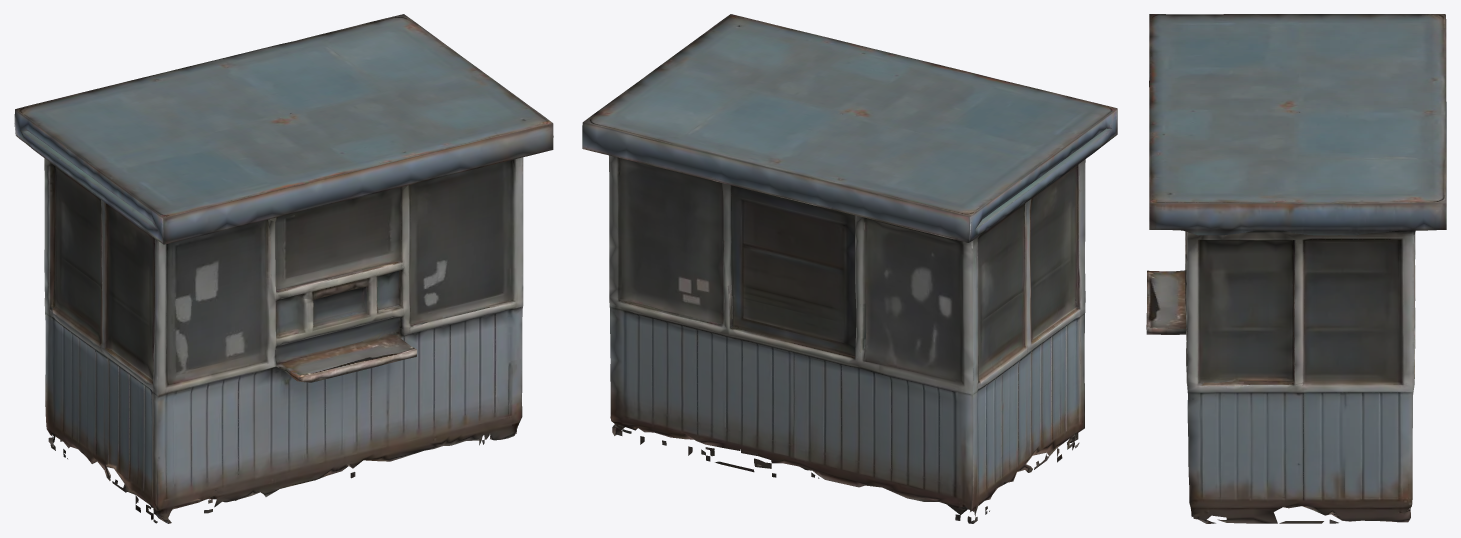
The model's file is kiosk.glb.
The picture shows the model from 3 angles, left to right: view 1: azimuth 30°, elevation 25°; view 2: azimuth 150°, elevation 25°; view 3: azimuth 270°, elevation 25°; orthographic projection.
Visible parts, largest first — view 1: Object_4; view 2: Object_4; view 3: Object_4.
Boxes of the visible parts, x1=… form: Object_4: x1=14, y1=14, x2=553, y2=523; Object_4: x1=582, y1=14, x2=1117, y2=523; Object_4: x1=1146, y1=14, x2=1446, y2=523.
Bounding box in the file's own units: 3.98 × 3.2 × 2.66.
1 material, 1 textured.
